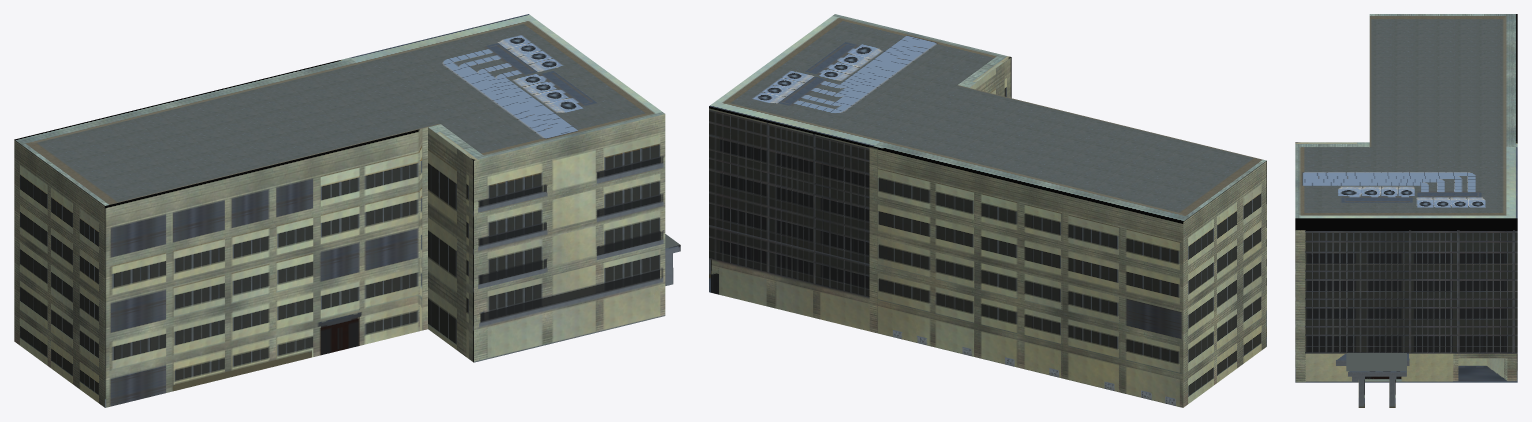
The model's file is building13_low.fbx.
3 views of the same model, side by side, from view 1: azimuth 30°, elevation 25°; view 2: azimuth 150°, elevation 25°; view 3: azimuth 270°, elevation 25° (orthographic). The views are drawn at different scales.
Parts seen in each view (by area): view 1: pCube574; view 2: pCube574; view 3: pCube574.
Part boxes in pixels (x1,y1,x2,y2): pCube574: (14, 14, 680, 407); pCube574: (709, 14, 1266, 407); pCube574: (1295, 14, 1517, 407).
Bounding box in the file's own units: 47.78 × 17.1 × 20.15.
